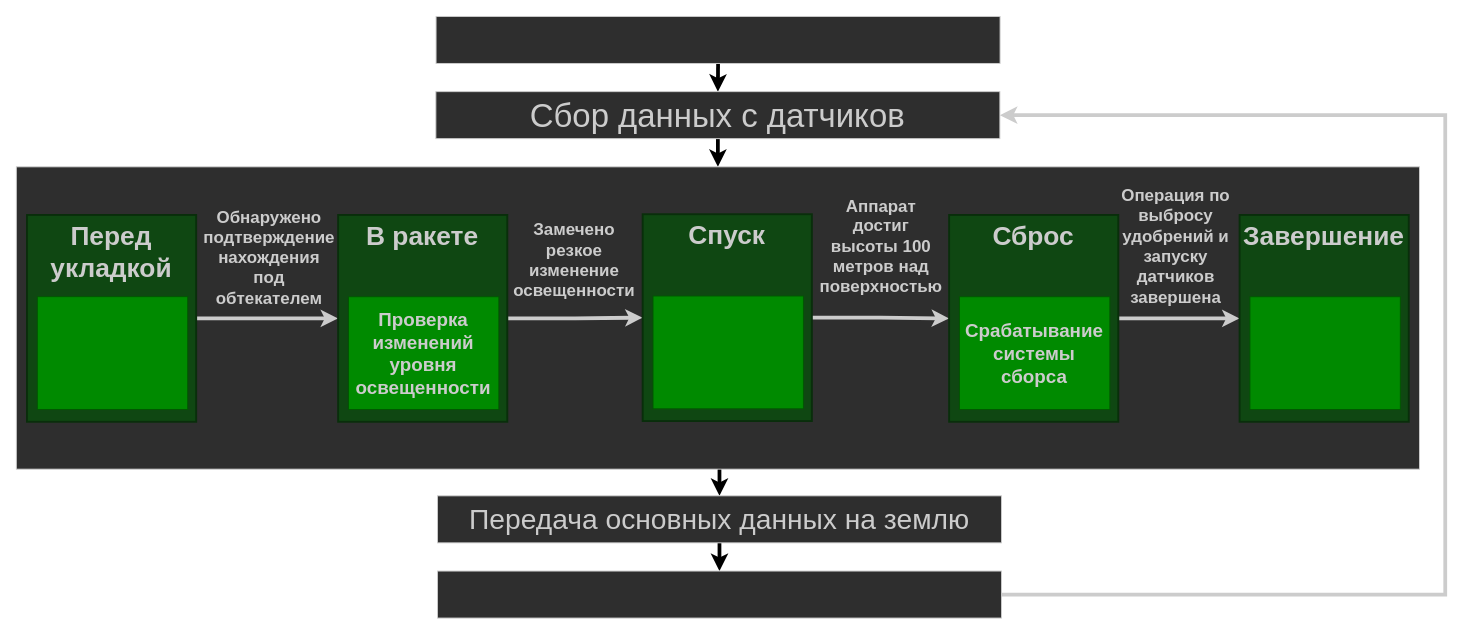
Some shapes in this 1471 by 635 pixel diagram are drawn without their labels. Each missing label, with the centre of its shape:
"Влючение пьезодинамика" belongs at point (1324, 353).
"Запись полученных данных на SD" belongs at point (719, 594).
"Инициализация" belongs at point (717, 39).
"Ожидание достижения высоты 100м" belongs at point (727, 352).
"Ожидание подтверждения размещения внутри ракеты" belongs at point (112, 352).
